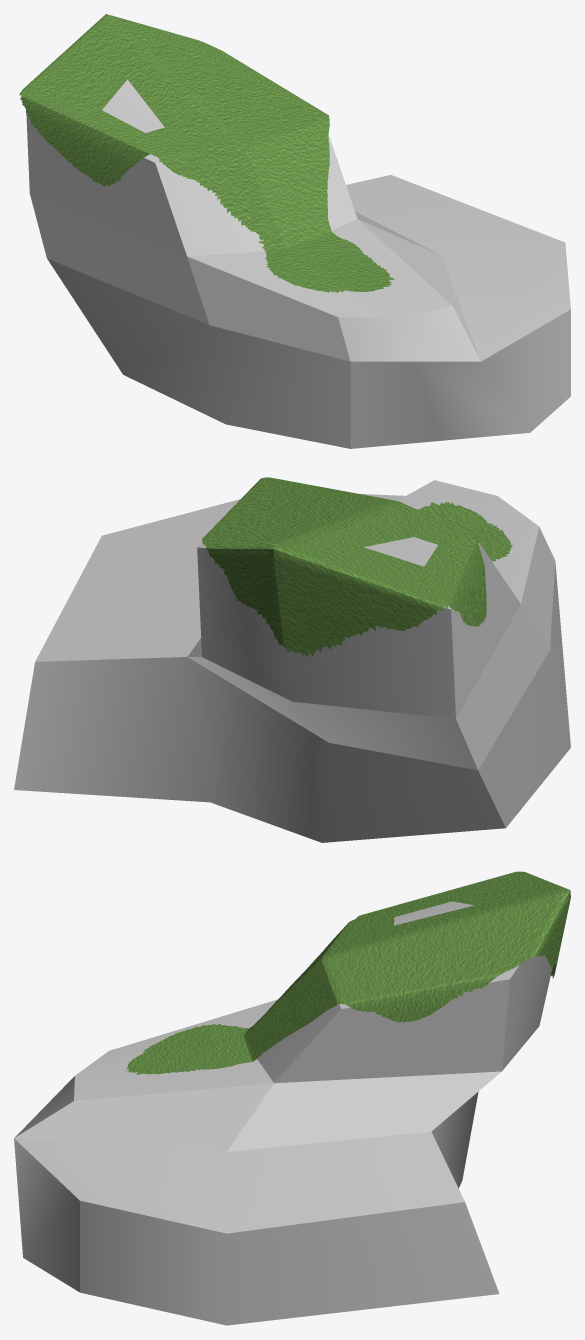
File: beachRock2.fbx
The picture shows the model from 3 angles, top to bottom: view 1: azimuth 30°, elevation 25°; view 2: azimuth 150°, elevation 25°; view 3: azimuth 270°, elevation 25°; orthographic projection. The views are drawn at different scales.
Visible parts, largest first — view 1: beachRock_geo, grassPlane; view 2: beachRock_geo, grassPlane; view 3: beachRock_geo, grassPlane.
Boxes of the visible parts, x1,y1,x2,y2 form: beachRock_geo: (26, 79, 570, 448); grassPlane: (19, 14, 394, 292); beachRock_geo: (14, 480, 570, 842); grassPlane: (202, 477, 512, 656); beachRock_geo: (14, 901, 552, 1325); grassPlane: (125, 871, 570, 1074).
Bounding box in the file's own units: 10.65 × 6.65 × 11.8.
